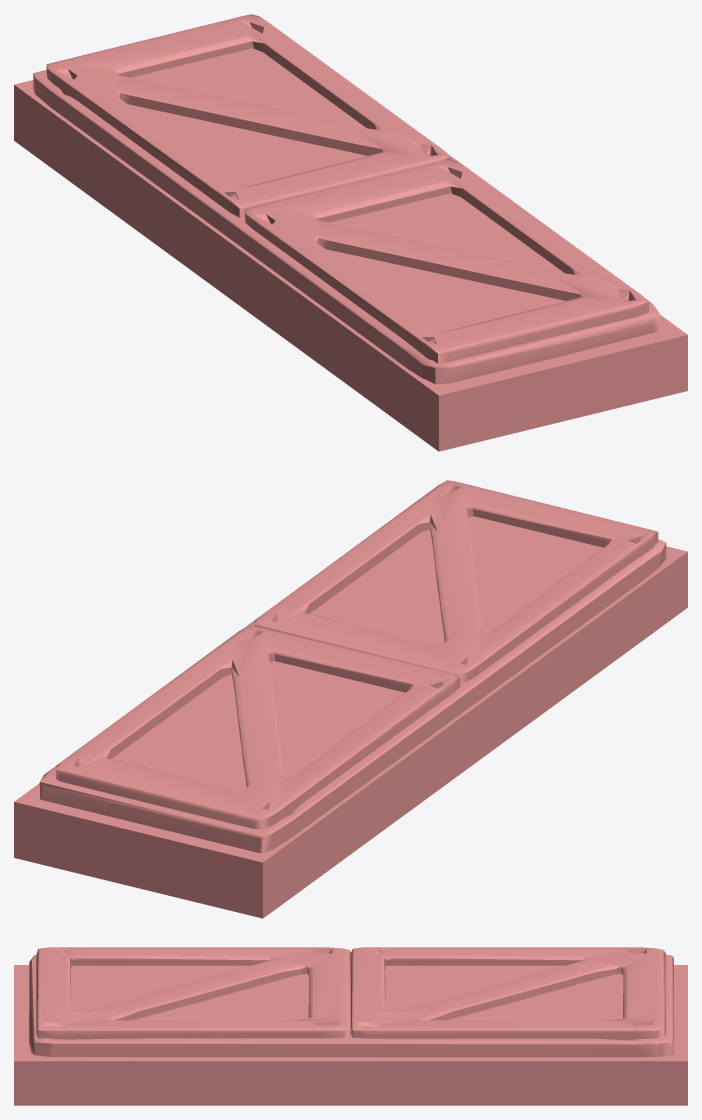
File: ComplexWall_3x1_03_Final.fbx
3 views of the same model, one above another, from view 1: azimuth 30°, elevation 25°; view 2: azimuth 150°, elevation 25°; view 3: azimuth 270°, elevation 25° (orthographic). The views are drawn at different scales.
Visible parts, largest first — view 1: Final_ComplexWall_3x1_03; view 2: Final_ComplexWall_3x1_03; view 3: Final_ComplexWall_3x1_03.
Boxes of the visible parts, x1,y1,x2,y2 form: Final_ComplexWall_3x1_03: (14, 14, 687, 451); Final_ComplexWall_3x1_03: (14, 480, 687, 918); Final_ComplexWall_3x1_03: (14, 947, 687, 1105).
Size of the model in its own units: 102 by 33.23 by 300.
